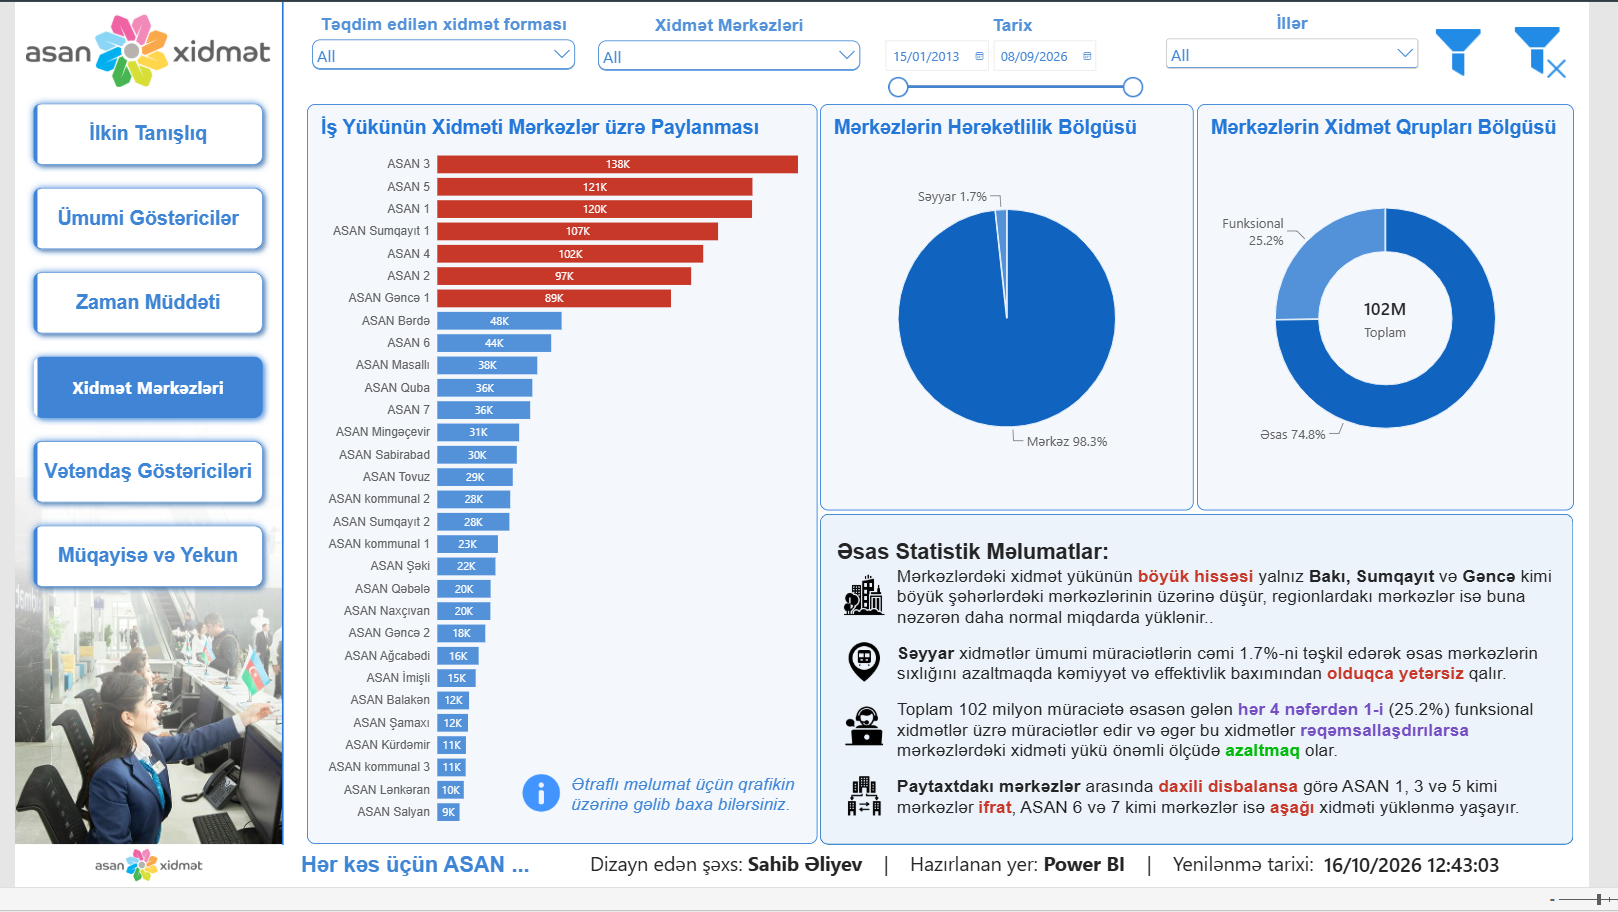

The page's visual inventory and layout, read from the dashboard file:
{"tool":"powerbi","page":{"name":"Xidmət Mərkəzləri","canvas":[1920,1080],"ordinal":3},"visuals":[{"type":"image","box":[0,396,326.1,632.6],"z":0},{"type":"image","box":[0,204,326,738],"z":1000},{"type":"shape","box":[315.7,0,21.4,1028.6],"z":2000},{"type":"image","box":[14,8,298,102],"z":3000},{"type":"image","box":[58.6,1031.4,210,42.9],"z":4000},{"type":"shape","box":[982.6,624.3,919.3,403.6],"z":5000},{"type":"textbox","box":[1002.6,655.1,378,32],"z":6000},{"type":"pieChart","title":"Mərkəzlərin Hərəkətlilik Bölgüsü","fields":{"Category":["Dim_Branch.branch_mobile"],"Y":["Ölçülər.Cinsə göre Müraciət Sayı"]},"box":[982.6,124.9,456,495.8],"z":7000},{"type":"clusteredBarChart","title":"İş Yükünün Xidməti Mərkəzlər üzrə Paylanması","fields":{"Category":["Dim_Branch.branch_name"],"Y":["Ölçülər.Filial Başına Düşən Yük"]},"box":[356.5,124.9,622.5,903],"z":8000},{"type":"donutChart","title":"Mərkəzlərin Xidmət Qrupları Bölgüsü","fields":{"Category":["Fact_Main.service_type"],"Y":["Ölçülər.Toplam"]},"box":[1442.3,124.9,459.7,495.8],"z":9000},{"type":"textbox","box":[1076.7,687.7,810.7,313.1],"z":10000},{"type":"slicer","title":"Təqdim edilən xidmət forması","fields":{"Values":["Fact_Main.service_type"]},"box":[357.1,15.1,331.1,84.4],"z":11000},{"type":"slicer","title":"Xidmət Mərkəzləri","fields":{"Values":["Dim_Branch.branch_name"]},"box":[706,16,330,84],"z":12000},{"type":"slicer","title":"Tarix","fields":{"Values":["Dim_Date.date"]},"box":[1054,16,326,110],"z":13000},{"type":"slicer","title":"İllər","fields":{"Values":["Dim_Date.date.Variation.Date Hierarchy.Year"]},"box":[1400,14,318,84],"z":14000},{"type":"pageNavigator","box":[13,114.7,298.7,610.3],"z":15000},{"type":"image","box":[1002.4,698.5,68.8,50.7],"z":16000},{"type":"image","box":[1002.4,780,68.8,50.7],"z":17000},{"type":"image","box":[1002.4,857.8,68.8,50.7],"z":18000},{"type":"image","box":[1002.4,942.8,68.8,50.7],"z":19000},{"type":"textbox","box":[348.6,1037.1,286,32],"z":20000},{"type":"image","box":[1718,30,86,62],"z":21000},{"type":"image","box":[1818,30,86,62],"z":22000},{"type":"textbox","box":[701.2,1034.5,900.3,36.8],"z":23000},{"type":"cardVisual","fields":{"Data":["Min(Yenilənmə Tarixi.Yenilənmə Tarixi)"]},"box":[1582,1036.6,320.3,32.5],"z":24000},{"type":"textbox","box":[678,942,300,60],"z":25000},{"type":"image","box":[608,940,68.8,50.7],"z":26000}]}

Visuals, with their boxes in screenshot pixels (x1, y1, x2, y2), scaled from the page's 1920x1080 canvas onto the 1618x912 screenshot:
image: [left=0, top=334, right=275, bottom=869]
image: [left=0, top=172, right=275, bottom=795]
shape: [left=266, top=0, right=284, bottom=869]
image: [left=12, top=7, right=263, bottom=93]
image: [left=49, top=871, right=226, bottom=907]
shape: [left=828, top=527, right=1603, bottom=868]
textbox: [left=845, top=553, right=1163, bottom=580]
"Mərkəzlərin Hərəkətlilik Bölgüsü" pieChart: [left=828, top=105, right=1212, bottom=524]
"İş Yükünün Xidməti Mərkəzlər üzrə Paylanması" clusteredBarChart: [left=300, top=105, right=825, bottom=868]
"Mərkəzlərin Xidmət Qrupları Bölgüsü" donutChart: [left=1215, top=105, right=1603, bottom=524]
textbox: [left=907, top=581, right=1591, bottom=845]
"Təqdim edilən xidmət forması" slicer: [left=301, top=13, right=580, bottom=84]
"Xidmət Mərkəzləri" slicer: [left=595, top=14, right=873, bottom=84]
"Tarix" slicer: [left=888, top=14, right=1163, bottom=106]
"İllər" slicer: [left=1180, top=12, right=1448, bottom=83]
pageNavigator: [left=11, top=97, right=263, bottom=612]
image: [left=845, top=590, right=903, bottom=633]
image: [left=845, top=659, right=903, bottom=701]
image: [left=845, top=724, right=903, bottom=767]
image: [left=845, top=796, right=903, bottom=839]
textbox: [left=294, top=876, right=535, bottom=903]
image: [left=1448, top=25, right=1520, bottom=78]
image: [left=1532, top=25, right=1605, bottom=78]
textbox: [left=591, top=874, right=1350, bottom=905]
cardVisual - Min(Yenilənmə Tarixi.Yenilənmə Tarixi): [left=1333, top=875, right=1603, bottom=903]
textbox: [left=571, top=795, right=824, bottom=846]
image: [left=512, top=794, right=570, bottom=837]
